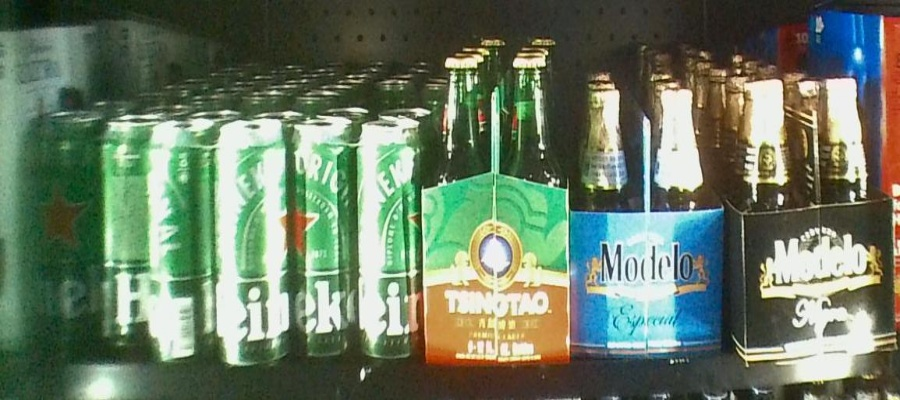bottle: (423, 56, 569, 365), (735, 80, 899, 351), (569, 90, 728, 361), (147, 122, 289, 364), (289, 122, 419, 362), (34, 106, 147, 355)
